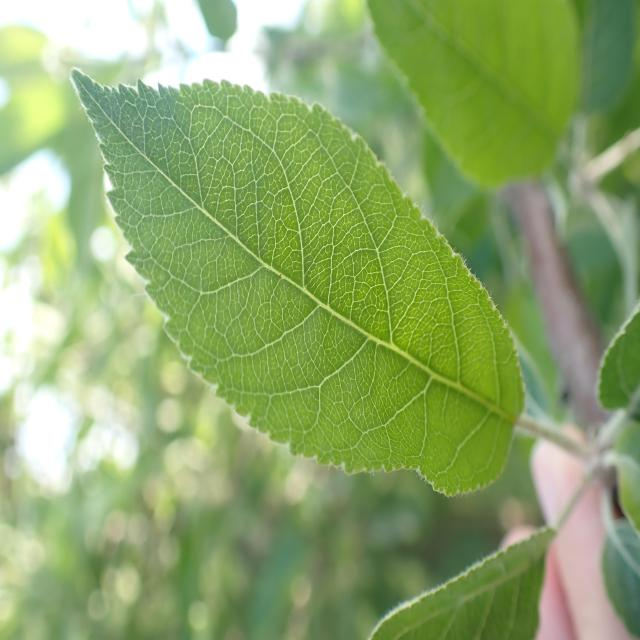healthy: (70, 65, 528, 498), (364, 0, 582, 188), (368, 525, 558, 640)
